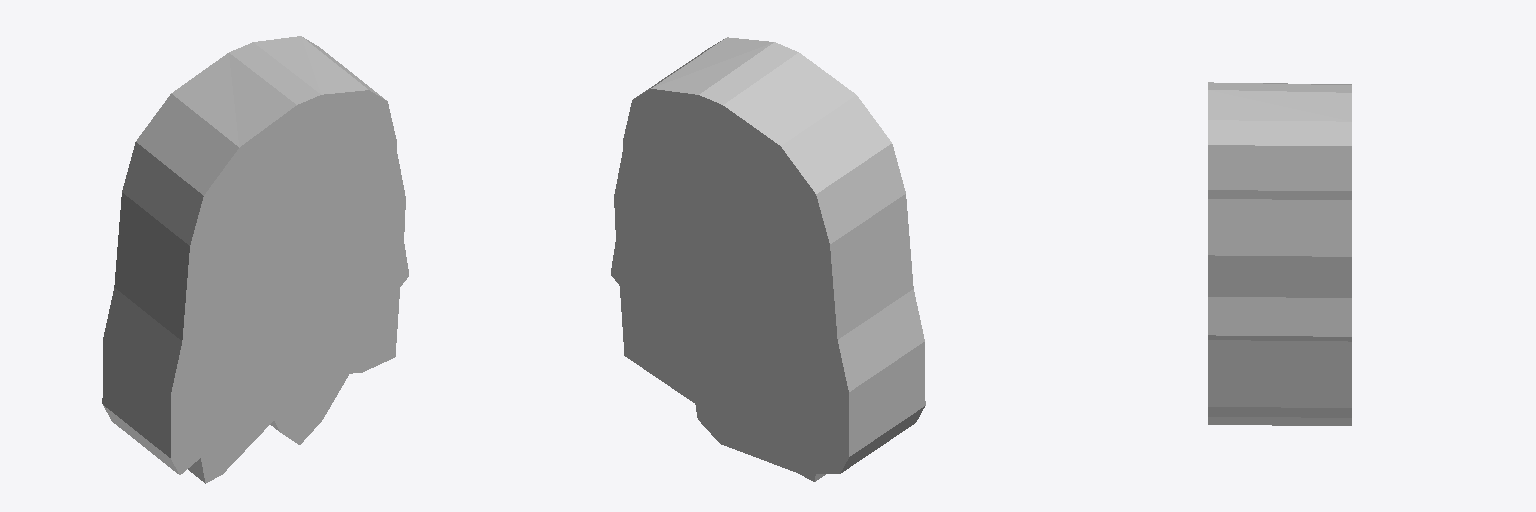
Rendered from YashaHead.obj.
The picture shows the model from 3 angles: view 1: azimuth 30°, elevation 25°; view 2: azimuth 150°, elevation 25°; view 3: azimuth 270°, elevation 25°; orthographic projection.
Visible parts, largest first — view 1: Cube.001_Cube.002; view 2: Cube.001_Cube.002; view 3: Cube.001_Cube.002.
Part boxes in pixels (bbox=[...]): Cube.001_Cube.002: bbox=[102, 36, 408, 483]; Cube.001_Cube.002: bbox=[611, 37, 925, 481]; Cube.001_Cube.002: bbox=[1208, 82, 1351, 425].
Size of the model in its own units: 0.5261 by 0.7467 by 0.2704.